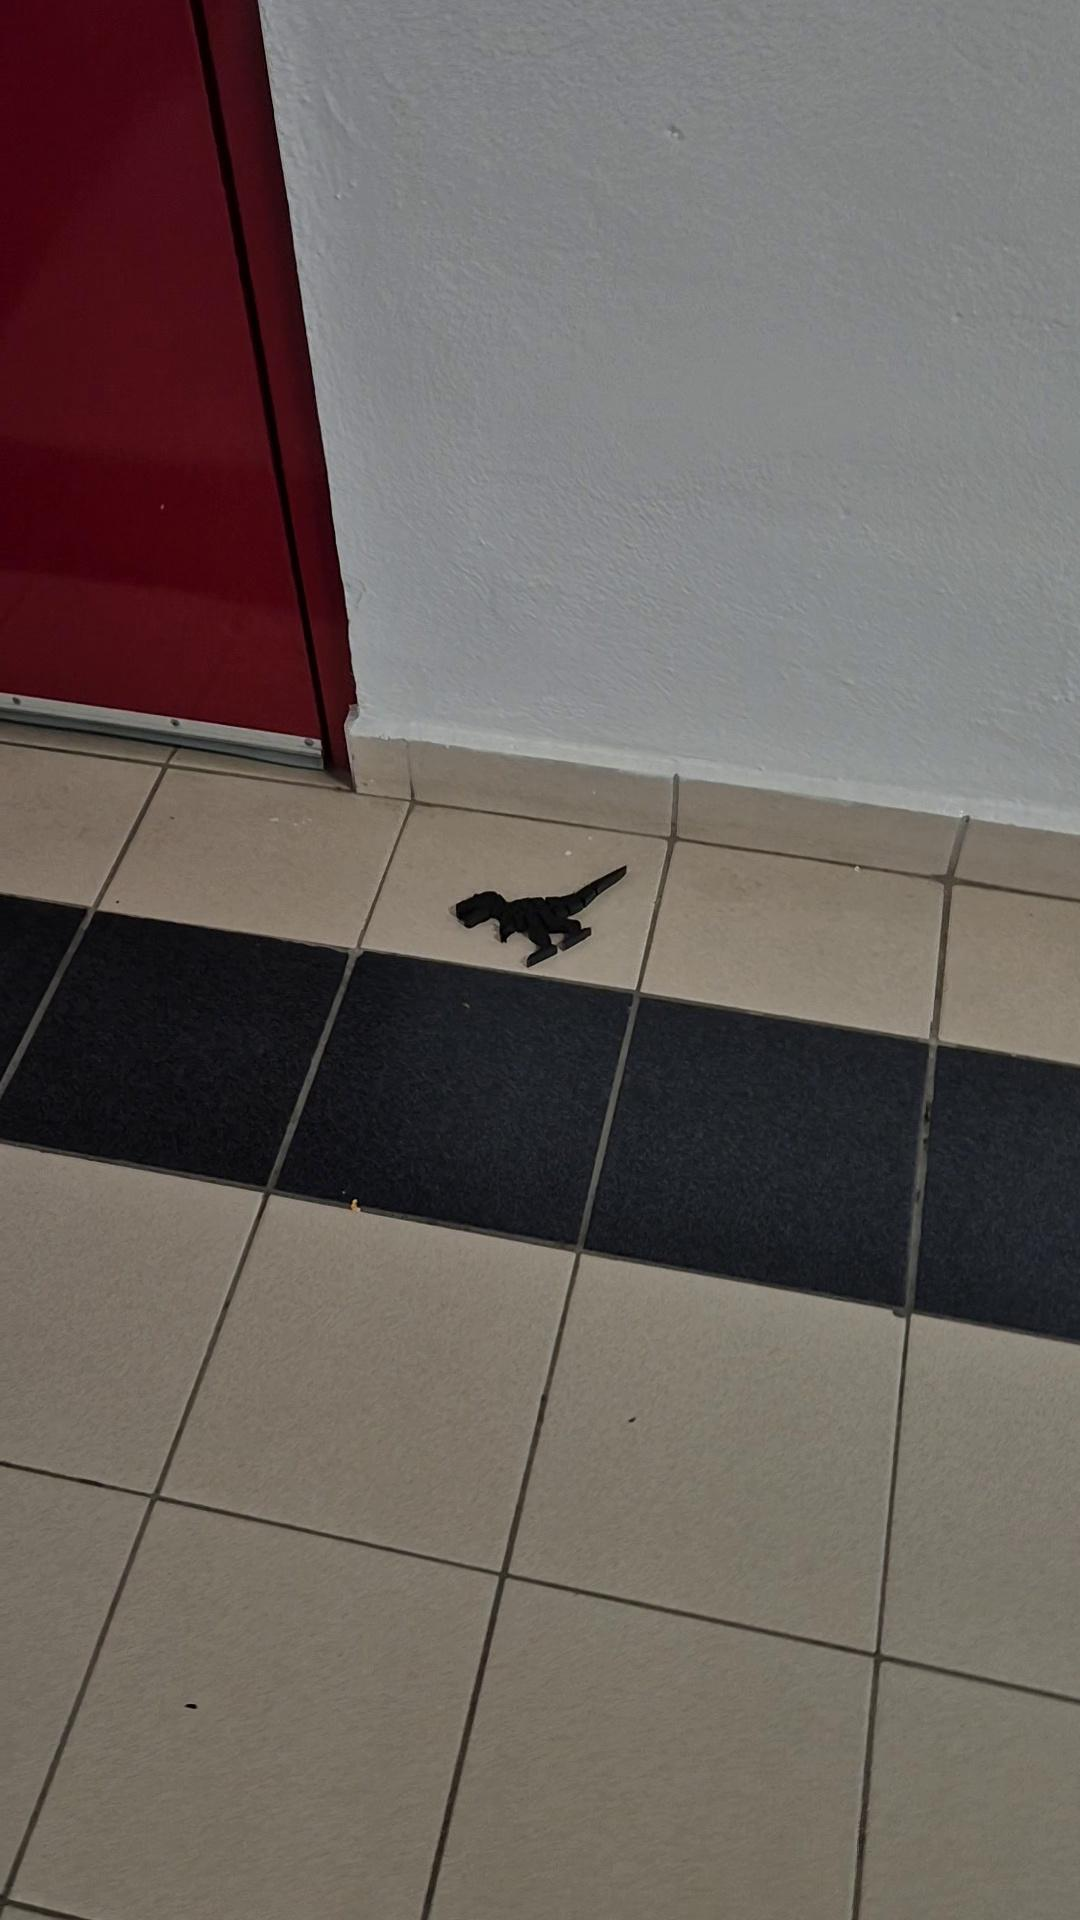dinosaur: (455, 864, 628, 969)
